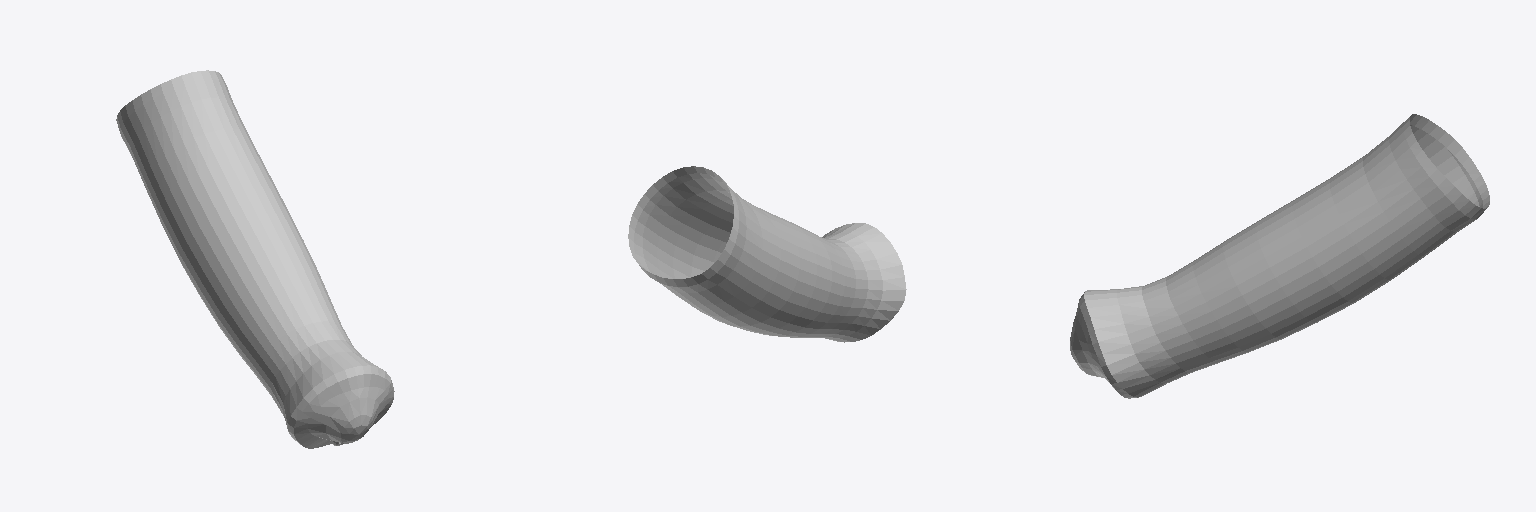
File: pone_Long_Shaft.obj
3 renders of one model, left to right at view 1: azimuth 30°, elevation 25°; view 2: azimuth 150°, elevation 25°; view 3: azimuth 270°, elevation 25°, orthographic.
Visible parts, largest first — view 1: dick_in_sheath.006_horsecock.006; view 2: dick_in_sheath.006_horsecock.006; view 3: dick_in_sheath.006_horsecock.006.
Part boxes in pixels (left/top/right/bottom): dick_in_sheath.006_horsecock.006: left=116, top=70, right=394, bottom=448; dick_in_sheath.006_horsecock.006: left=628, top=166, right=906, bottom=342; dick_in_sheath.006_horsecock.006: left=1070, top=114, right=1489, bottom=398.
Bounding box in the file's own units: 6.9 × 17.09 × 23.89.